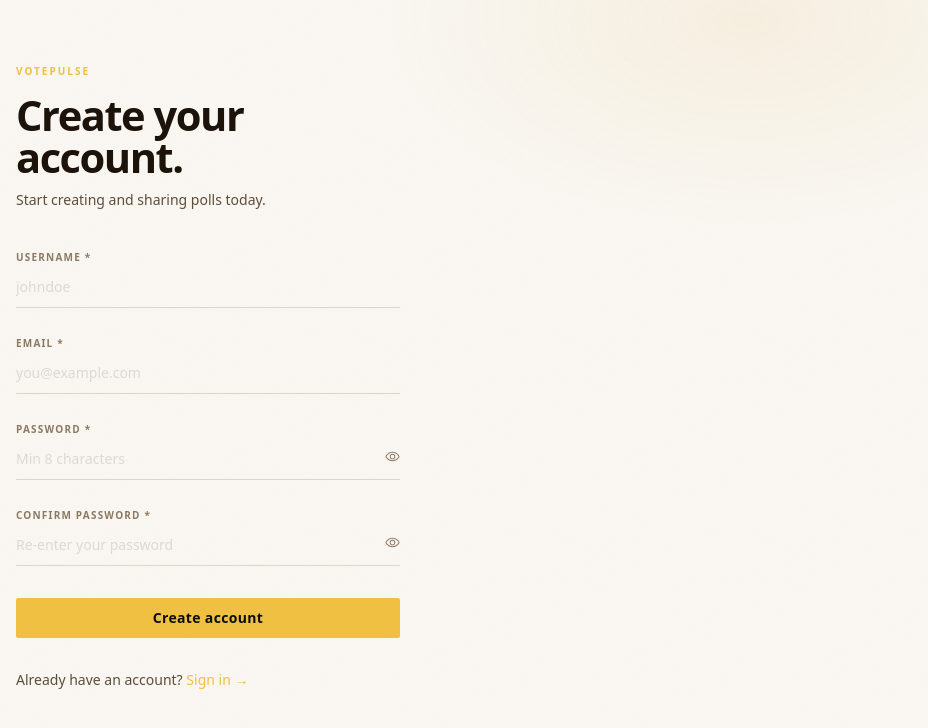
Test: Register Page › shows error when passwords do not match
Type "testuser" into the field with placeholder "johndoe" at [208, 291], box left=16, top=273, right=400, bottom=308
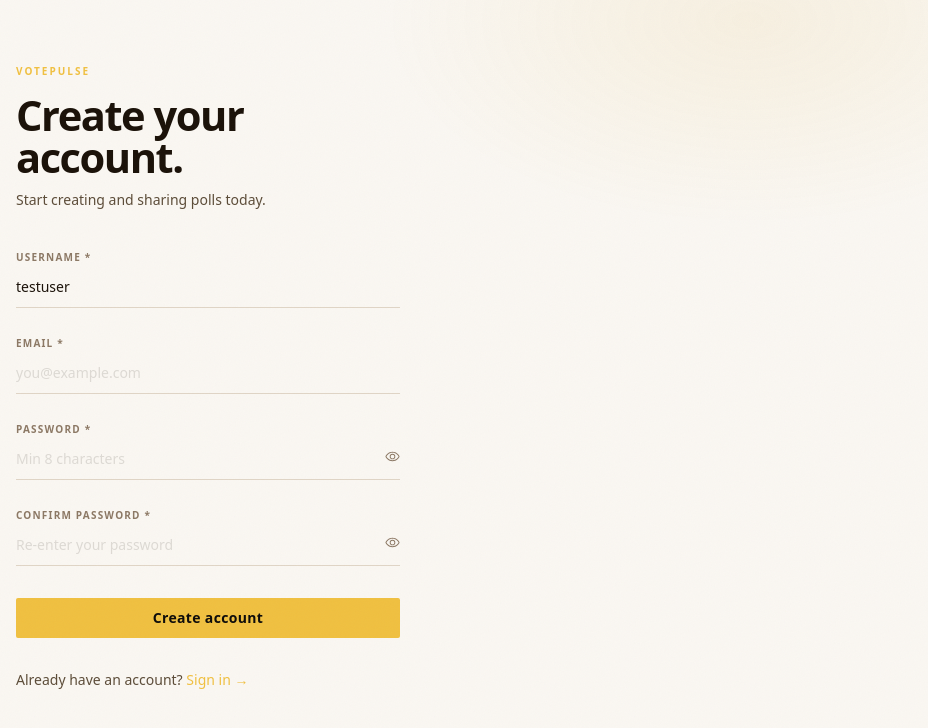
Type "test@test.com" into the field with placeholder "you@example.com" at [208, 377], box left=16, top=359, right=400, bottom=394
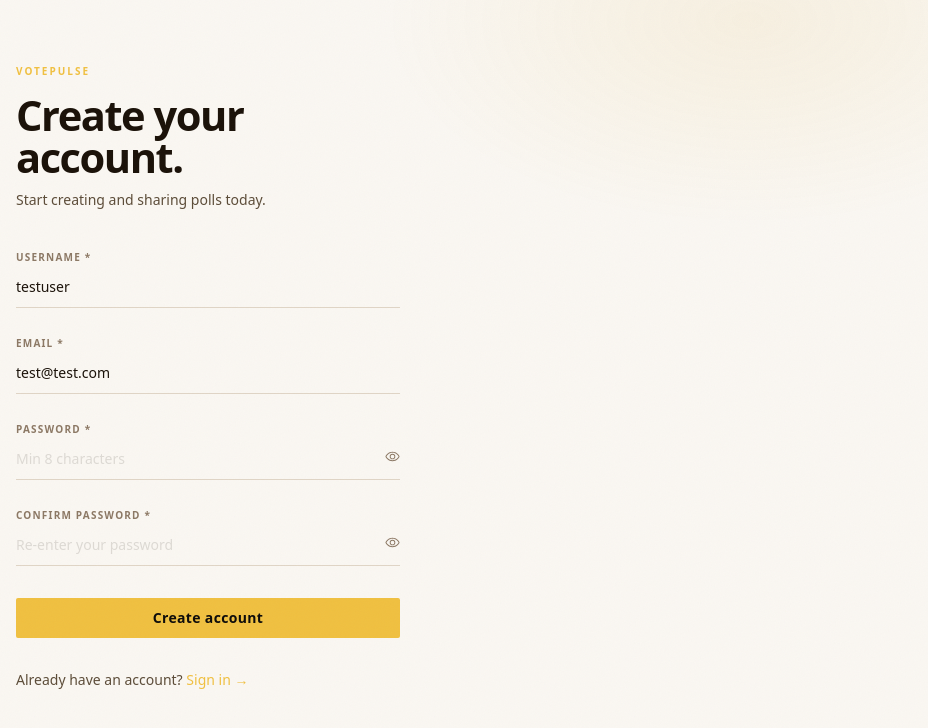
Type "password123" into the password field with placeholder "Min 8 characters" at [208, 463], box left=16, top=445, right=400, bottom=480
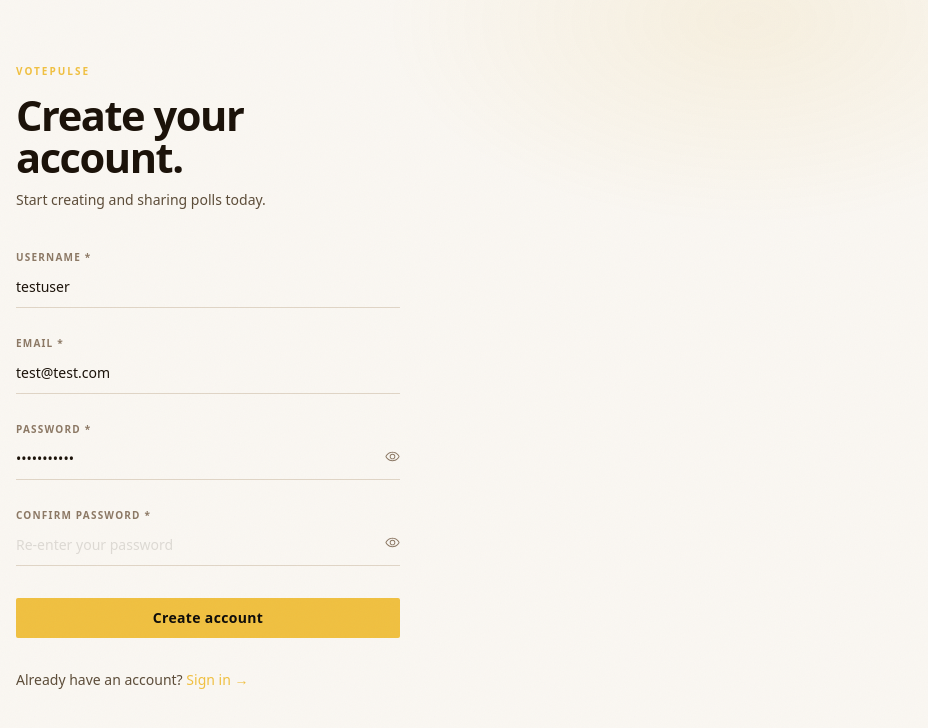
Type "password456" into the password field with placeholder "Re-enter your password" at [208, 549], box left=16, top=531, right=400, bottom=566
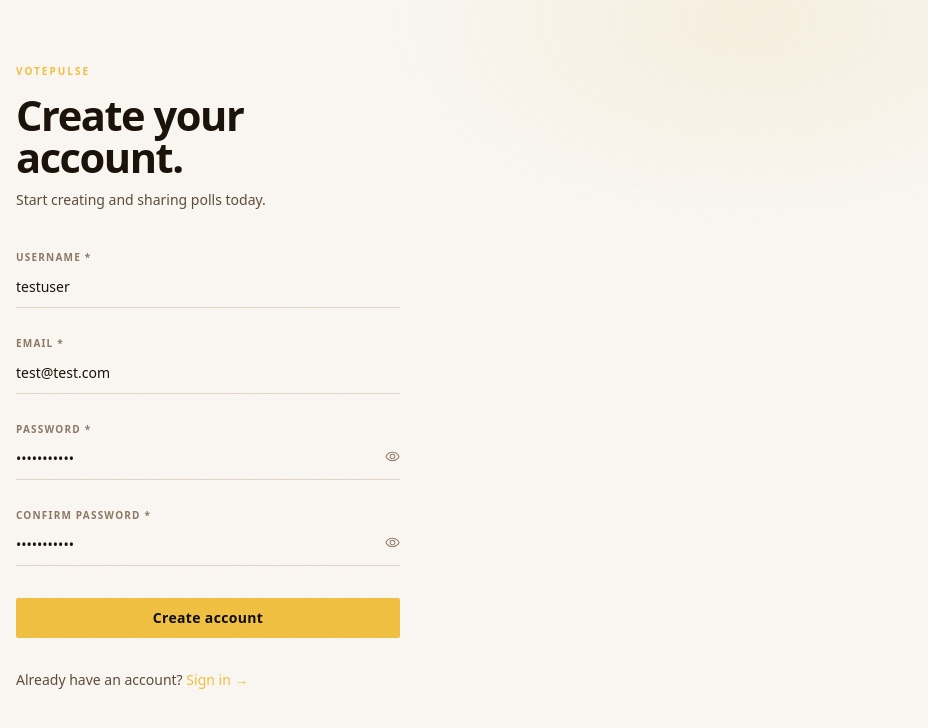
Click the button "Create account" at [208, 618], box left=16, top=598, right=400, bottom=638
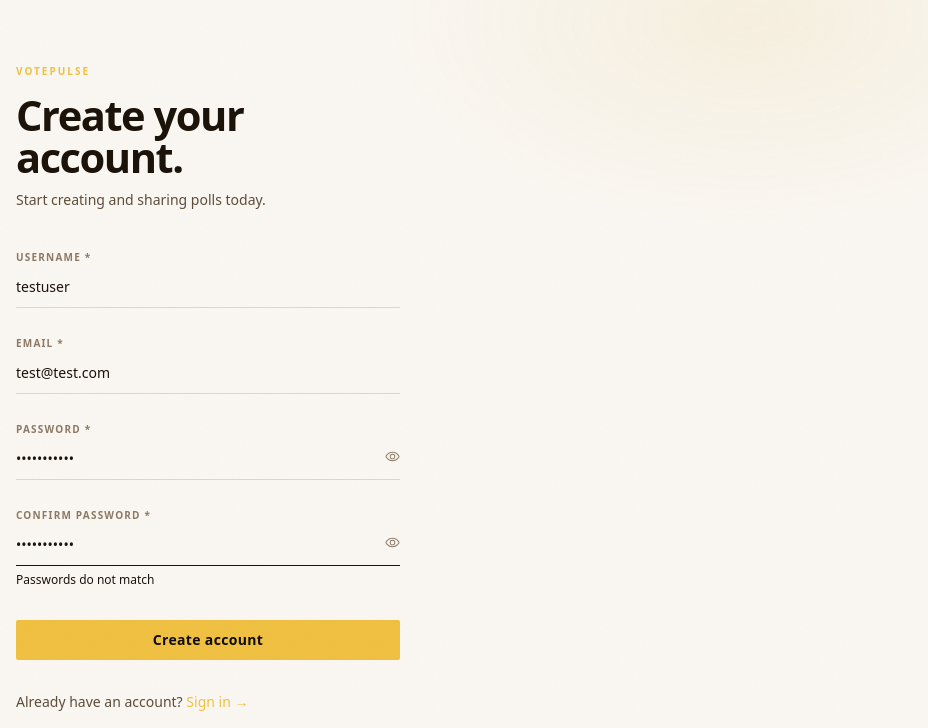
Check: the text "Passwords do not match" is shown, box left=16, top=571, right=154, bottom=588
